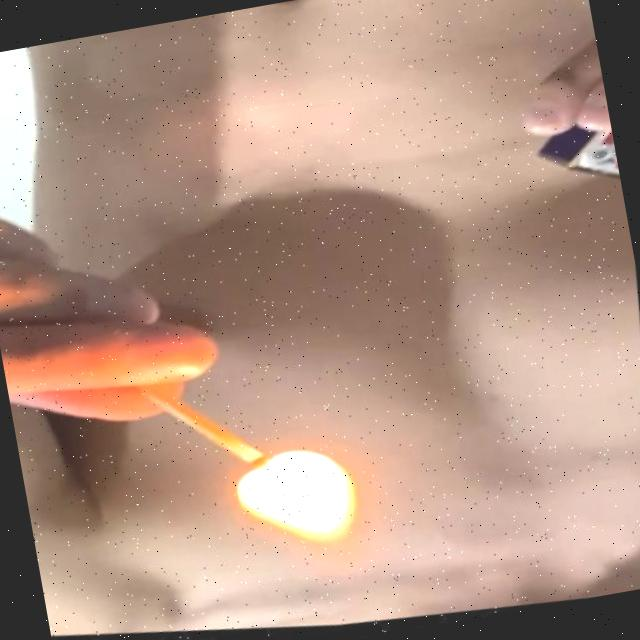fire: (220, 430, 380, 573)
